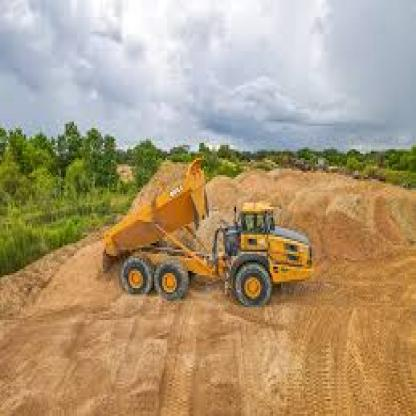dump_truck: (100, 152, 328, 314)
